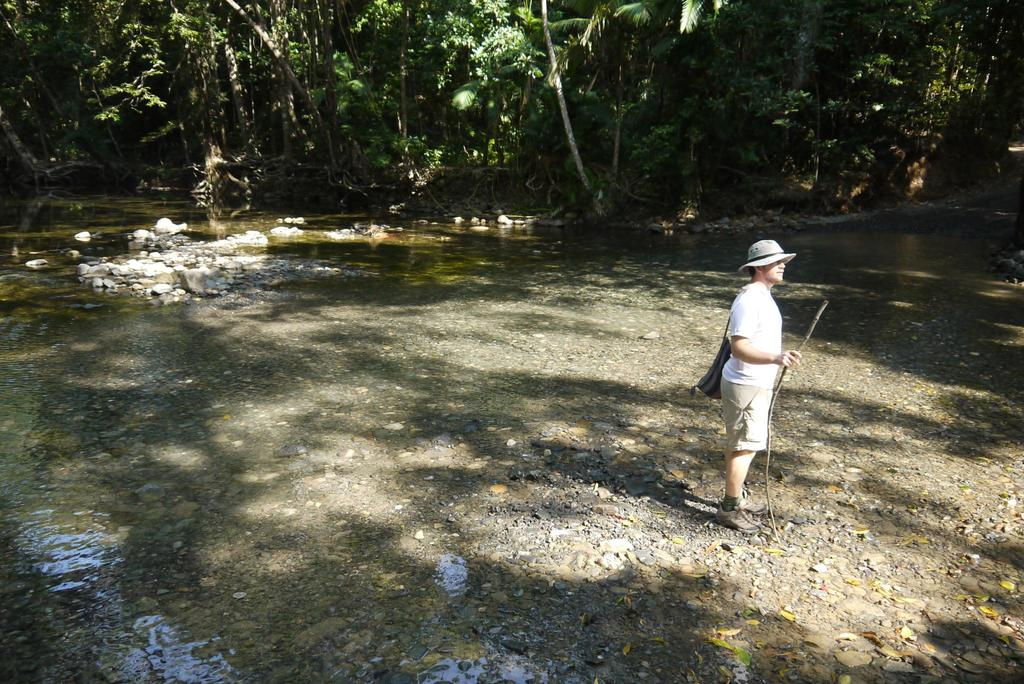Person: (714, 240, 801, 535)
